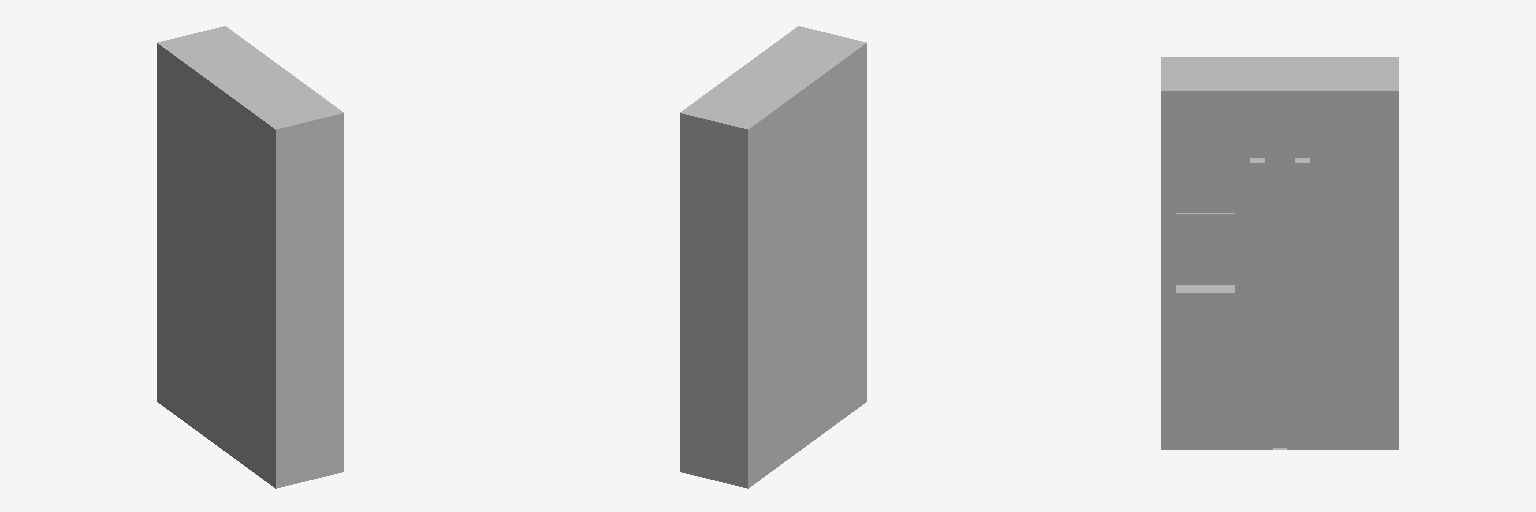
Rendered from fridge.obj.
The picture shows the model from 3 angles: view 1: azimuth 30°, elevation 25°; view 2: azimuth 150°, elevation 25°; view 3: azimuth 270°, elevation 25°; orthographic projection.
Visible parts, largest first — view 1: pCube1; view 2: pCube1; view 3: pCube1.
Part boxes in pixels (x1,y1,x2,y2): pCube1: (157,26,343,488); pCube1: (680,26,866,488); pCube1: (1161,57,1398,449).
Size of the model in its own units: 1.16 by 5 by 3.